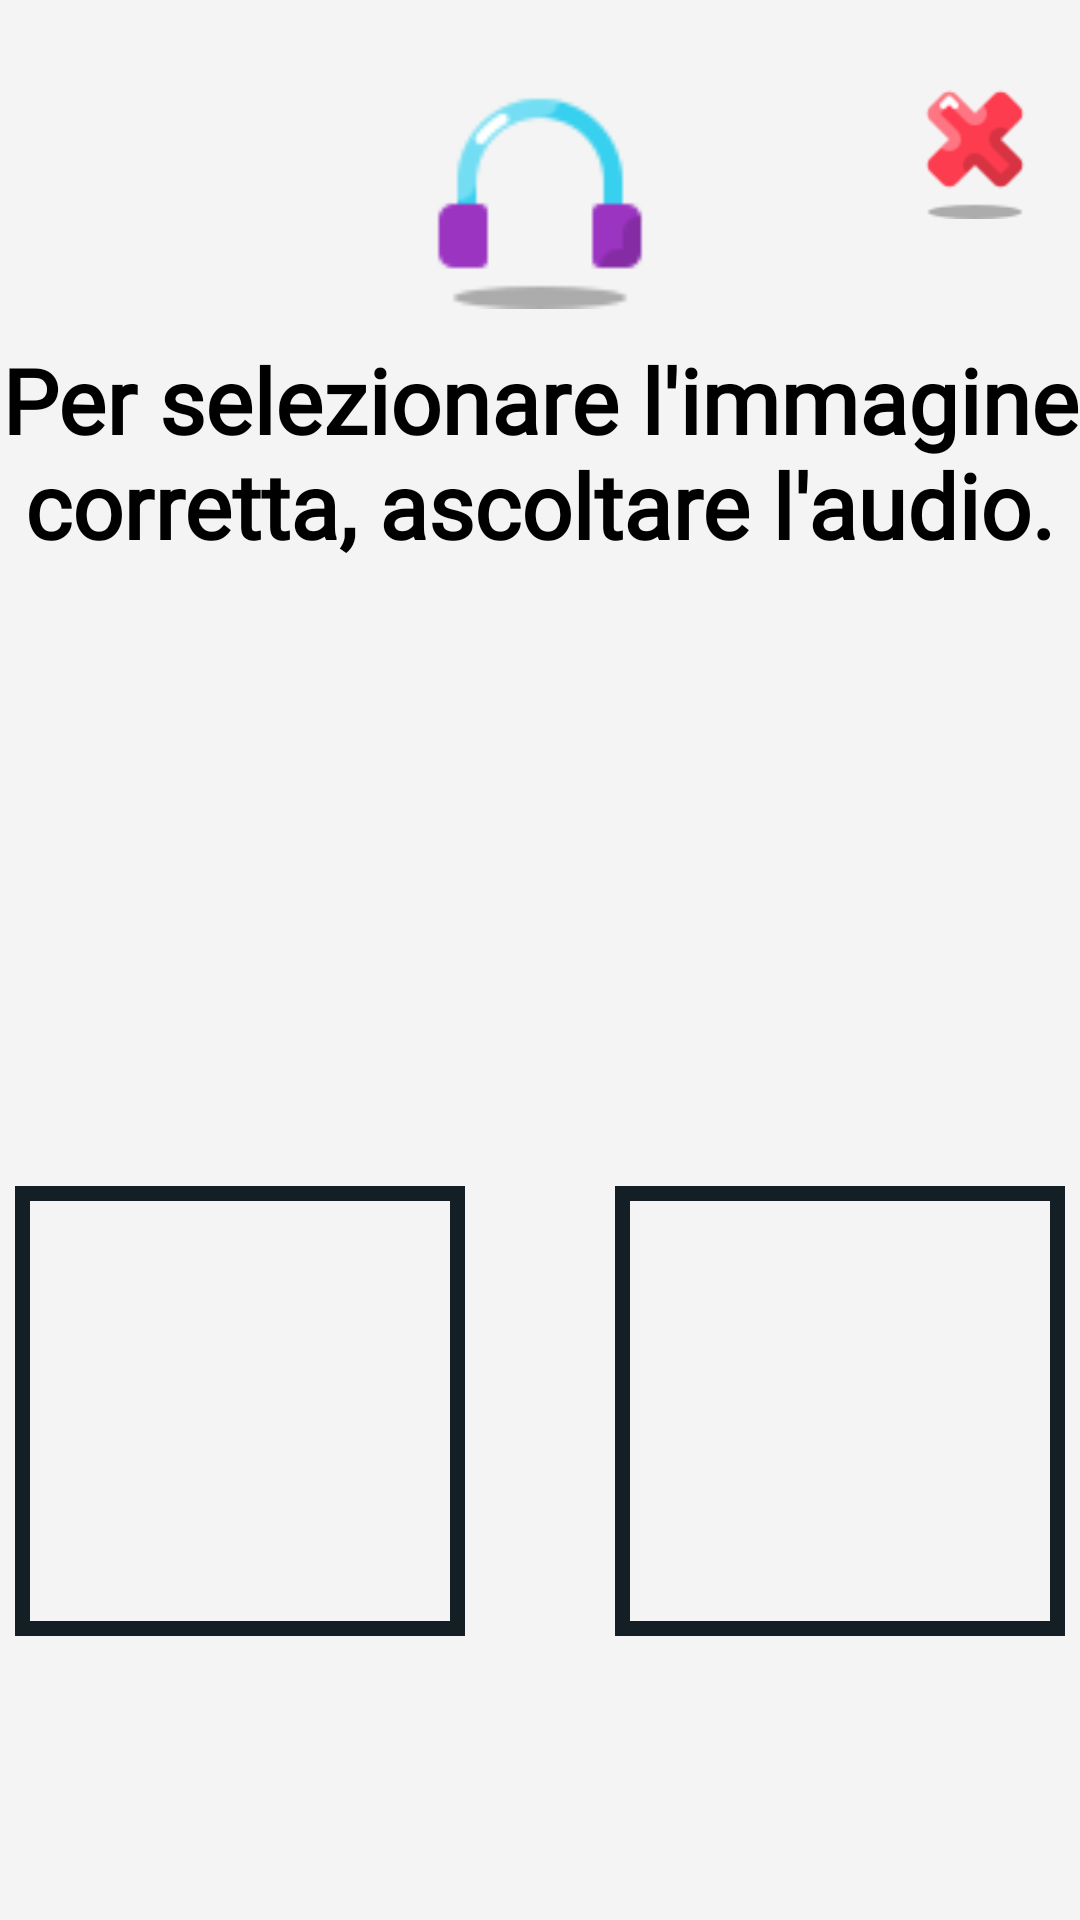

Screen size 1080*1920. Icon name, then its box in pixels as (x1, y1, x2, y2):
exit: (926, 91, 1024, 219)
listen audio: (437, 98, 643, 309)
